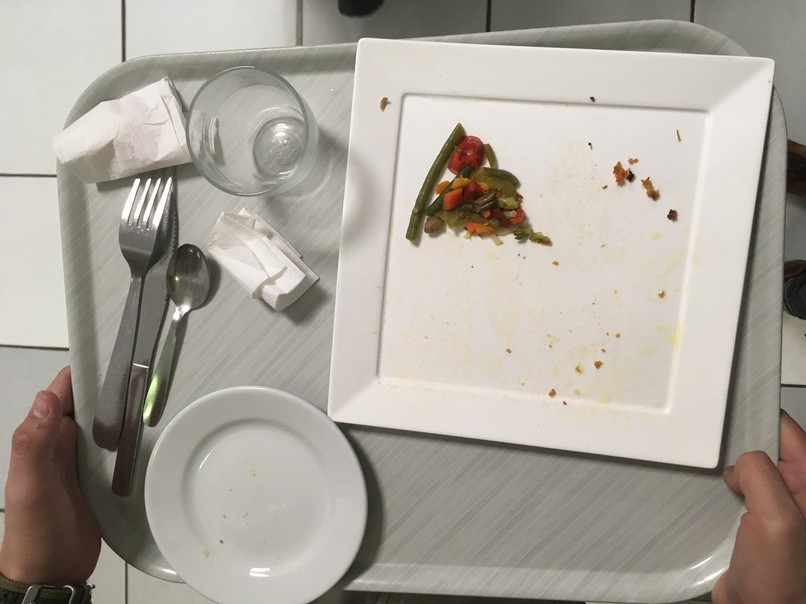cup: (178, 62, 333, 199)
cutlery: (81, 177, 203, 510)
orga: (413, 120, 549, 260)
trash: (205, 209, 318, 319), (59, 84, 188, 176)
